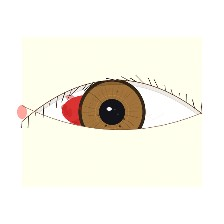hemorrhage_spot: (52, 81, 125, 140)
